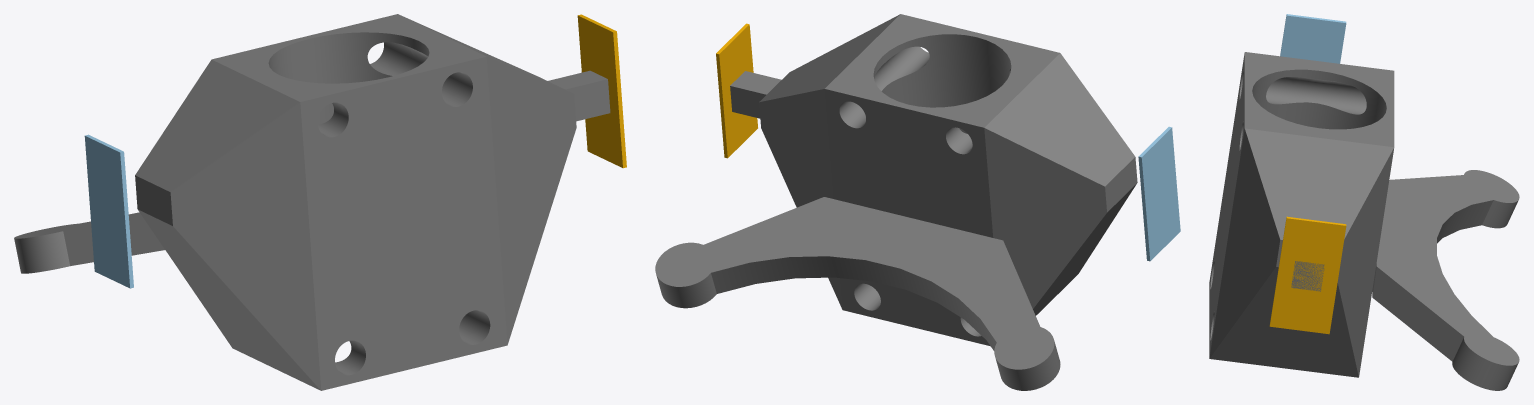
3 views of the same model, side by side, from view 1: azimuth 30°, elevation 25°; view 2: azimuth 150°, elevation 25°; view 3: azimuth 270°, elevation 25° (orthographic). The views are drawn at different scales.
Visible parts, largest first — view 1: Part 7, Part 9, Part 8; view 2: Part 7, Part 9, Part 8; view 3: Part 7, Part 8, Part 9.
Part boxes in pixels (box(x1,y1,x2,y2)): Part 7: box(14, 14, 610, 390); Part 9: box(84, 134, 133, 288); Part 8: box(577, 14, 626, 168); Part 7: box(655, 14, 1137, 390); Part 9: box(1138, 126, 1180, 261); Part 8: box(716, 23, 757, 158); Part 7: box(1209, 52, 1519, 390); Part 8: box(1269, 216, 1346, 334); Part 9: box(1280, 14, 1346, 63).
Bounding box in the file's own units: 0.4064 × 0.2313 × 0.2608.
